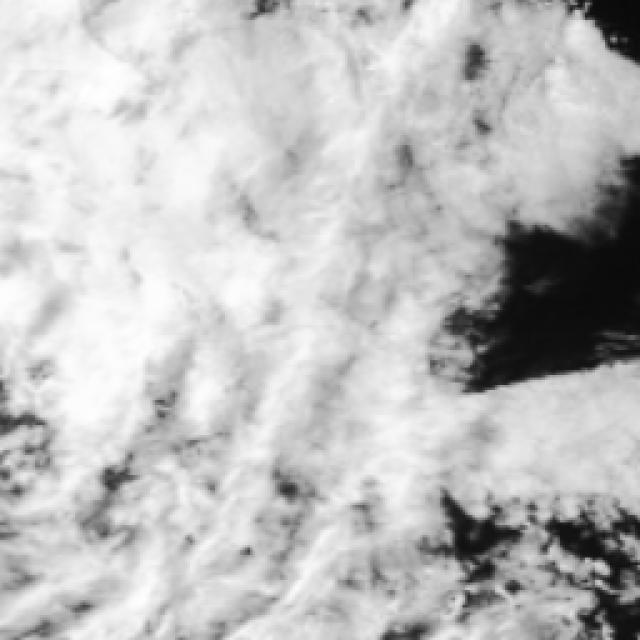CB: (208, 14, 416, 246), (0, 0, 205, 198), (206, 229, 400, 425), (0, 199, 205, 384), (409, 12, 586, 197)
